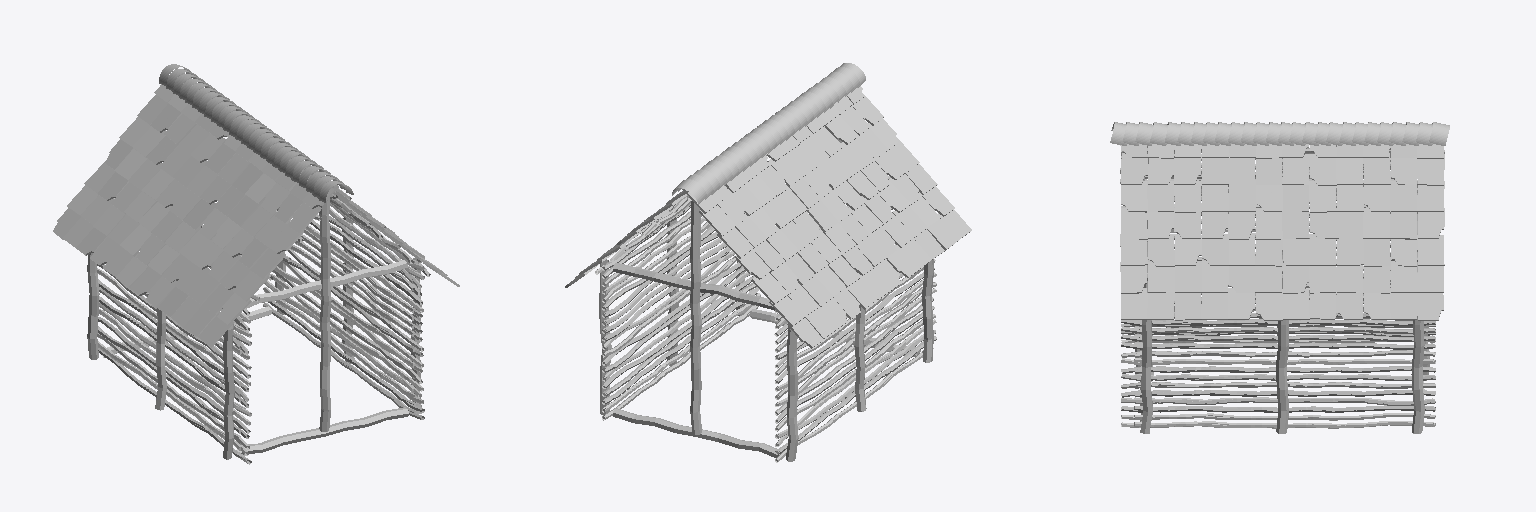
The model's file is NU_Primitive Hut 1A.obj.
The picture shows the model from 3 angles: view 1: azimuth 30°, elevation 25°; view 2: azimuth 150°, elevation 25°; view 3: azimuth 270°, elevation 25°; orthographic projection.
Bounding box in the file's own units: 605 × 608 × 707.